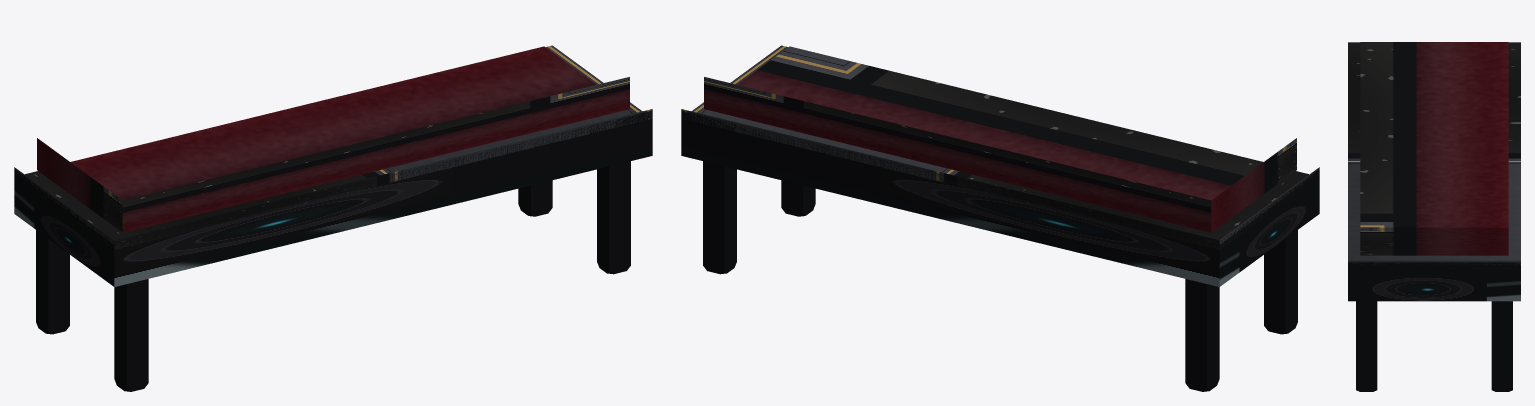
Rendered from room_l3_img2_specimen_bench.glb.
The picture shows the model from 3 angles, left to right: view 1: azimuth 30°, elevation 25°; view 2: azimuth 150°, elevation 25°; view 3: azimuth 270°, elevation 25°; orthographic projection. The views are drawn at different scales.
Parts seen in each view (by area): view 1: velvet_cushion, seat_frame, brass_seam, leg_1, leg_0, leg_3, leg_2; view 2: velvet_cushion, seat_frame, brass_seam, leg_3, leg_2, leg_1, leg_0; view 3: velvet_cushion, brass_seam, seat_frame, leg_0, leg_2.
Part boxes in pixels (x1,y1,x2,y2): velvet_cushion: (37, 46, 629, 232); seat_frame: (14, 110, 652, 286); brass_seam: (14, 45, 652, 249); leg_1: (114, 279, 148, 391); leg_0: (597, 161, 630, 274); leg_3: (36, 230, 69, 334); leg_2: (518, 180, 552, 216); velvet_cushion: (704, 46, 1296, 232); seat_frame: (681, 110, 1319, 286); brass_seam: (681, 45, 1319, 249); leg_3: (1185, 279, 1219, 391); leg_2: (703, 161, 736, 274); leg_1: (1264, 230, 1297, 334); leg_0: (781, 180, 815, 216); velvet_cushion: (1360, 42, 1508, 255); brass_seam: (1348, 42, 1520, 268); seat_frame: (1348, 262, 1520, 301); leg_0: (1356, 301, 1377, 391); leg_2: (1491, 301, 1512, 391).
Bounding box in the file's own units: 1.74 × 0.59 × 0.56.
Materials: 3 (3 with a texture image).
